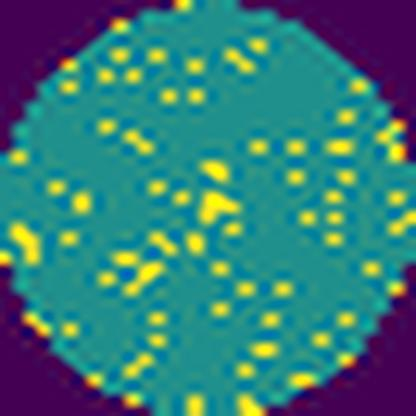Center: (187, 175, 246, 227)
